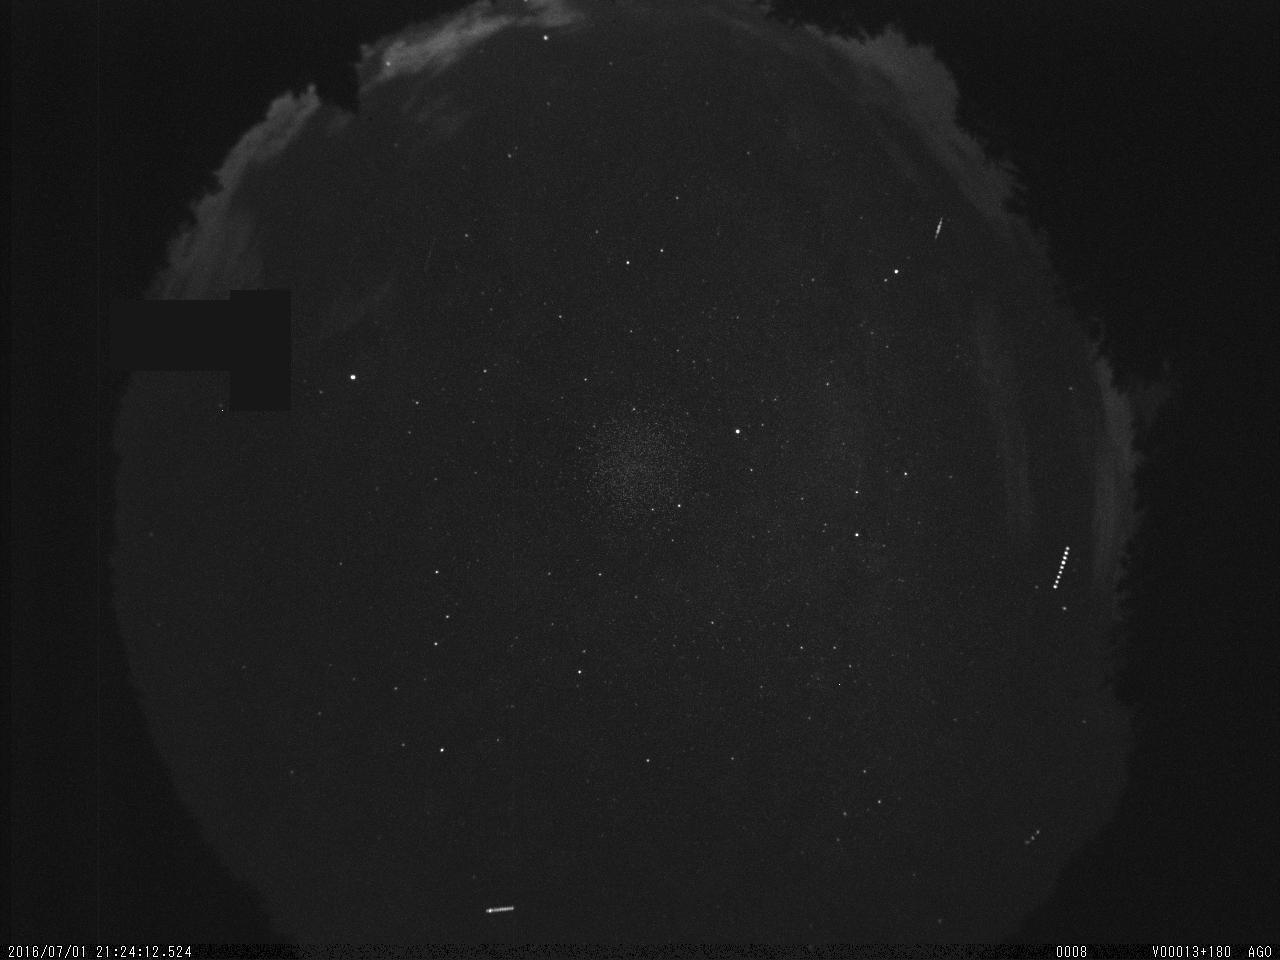Meteor: (930, 206, 949, 247)
